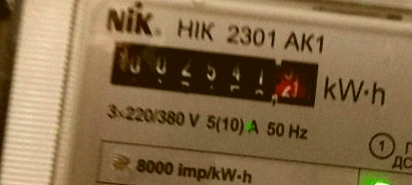0: (123, 48, 144, 76), (151, 49, 168, 77)
1: (251, 59, 267, 87)
2: (175, 52, 194, 78)
4: (227, 57, 243, 81)
5: (200, 54, 221, 84)
6: (277, 79, 294, 99)
screen: (95, 23, 335, 122)
